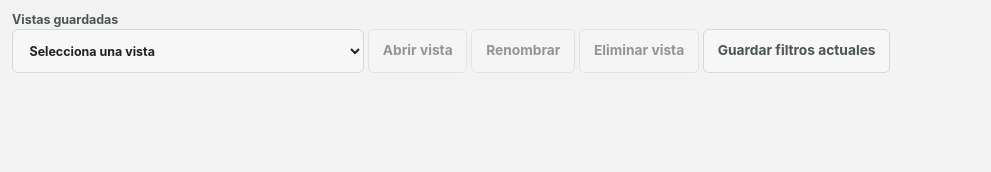
saved transaction views panel › explains inactive or retired references and restores focus when the editor is cancelled
The image size is (991, 172).
Later steps or results of the test are not shown.
Select "Cuenta retirada" in the dropdown labelled "Vistas guardadas" at (188, 51), box [12,29,364,73]
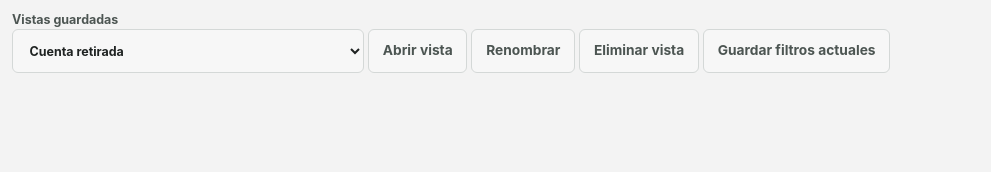
Click the button "Abrir vista" at (418, 51), box [368,29,467,73]
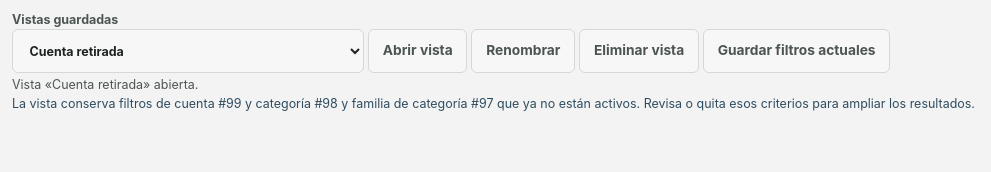
Check: the message that starts with "La vista conserva filtros de" shows "cuenta #99", box [174,96,494,111]
Check: the message that starts with "La vista conserva filtros de" shows "categoría #98", box [174,96,494,111]
Check: the message that starts with "La vista conserva filtros de" shows "familia de categoría #97", box [174,96,494,111]
